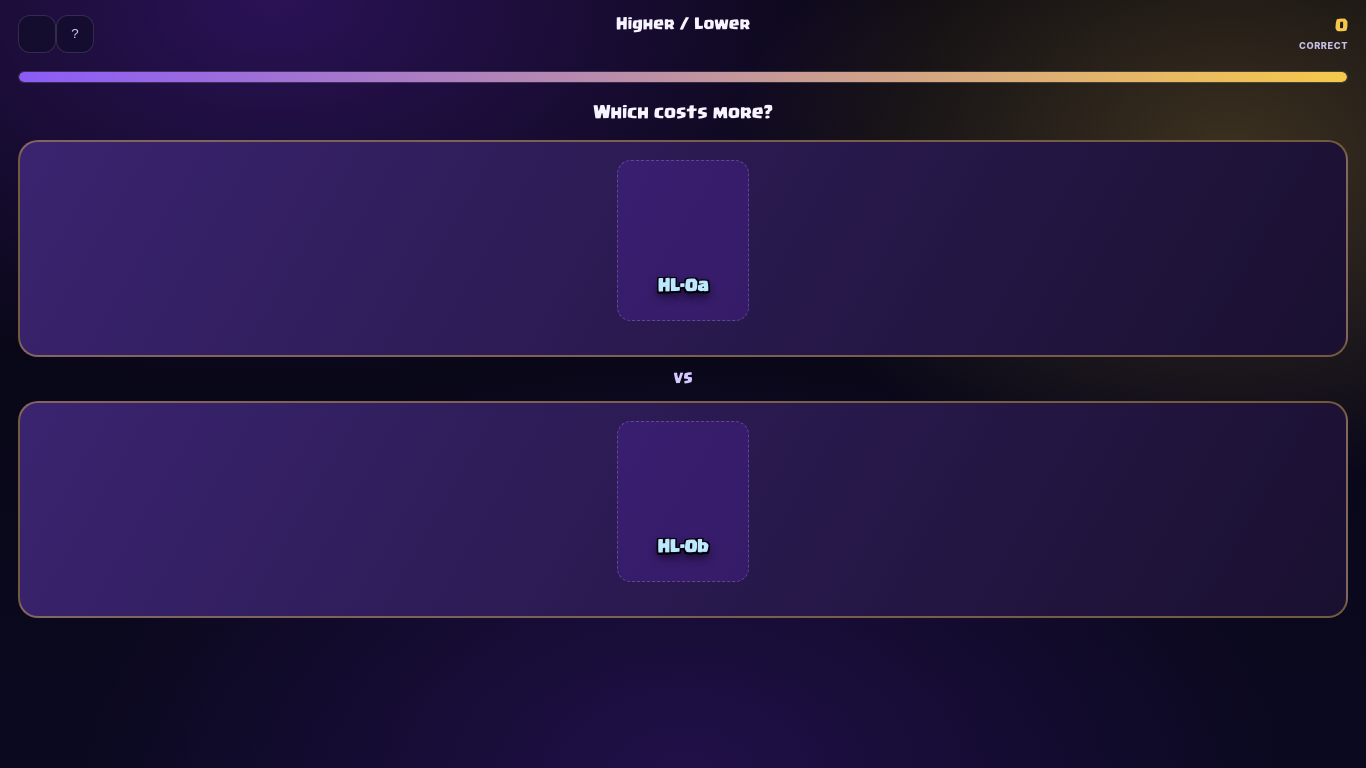
Scenario: Higher / Lower — gameplay › picking the higher card scores and deals the next pair
This screenshot has width=1366, height=768.
Expected: the text with class "ed-game__mode" reads "Higher / Lower", [616,17,750,32]
What coordinates should you click on to do the following:
click the button "HL-0a"
I would click on:
 (98, 249)
Its box is [18,140,1348,357].
Wait 800 ms
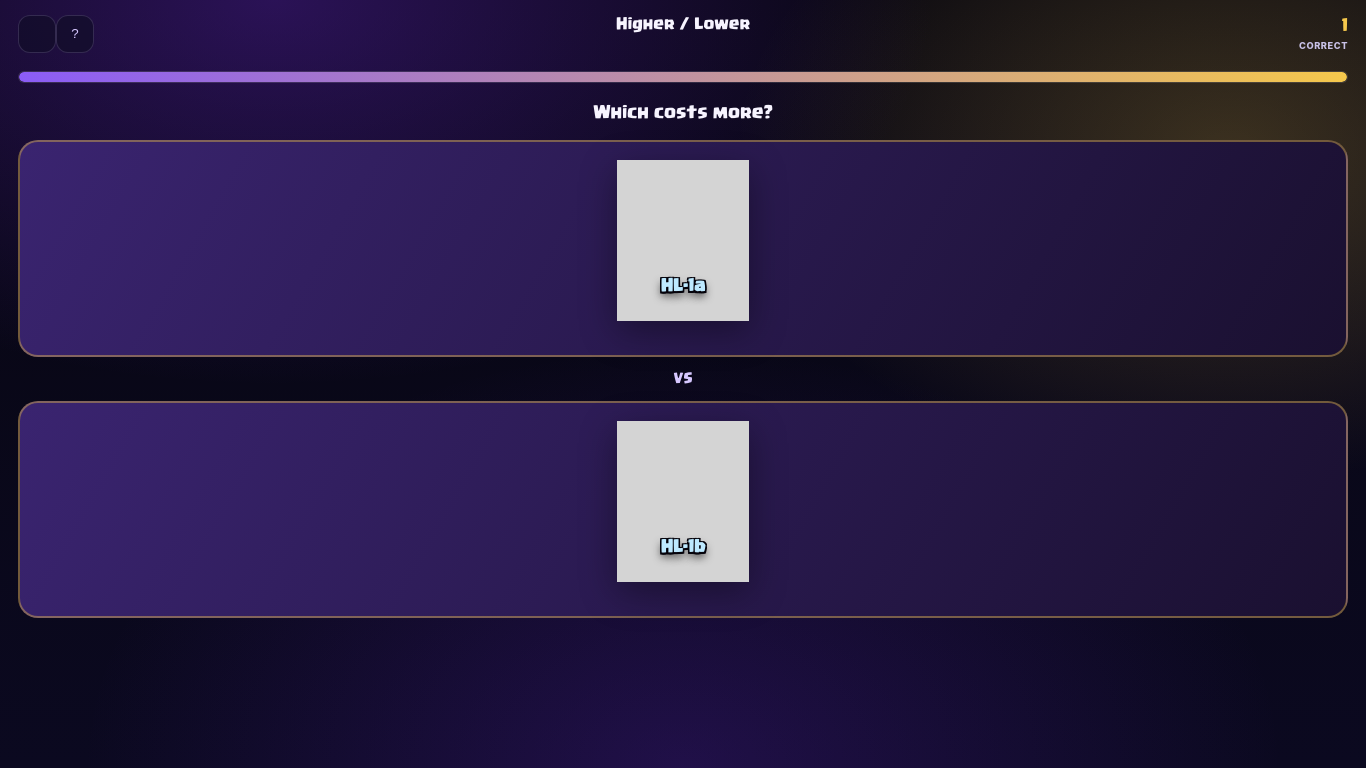
Expected: the text with class "ed-game__metric-label" reads "correct", [1299,40,1348,51]
Expected: the text "HL-1a" is shown, [661,278,705,294]
Expected: the text "HL-0a" is gone
